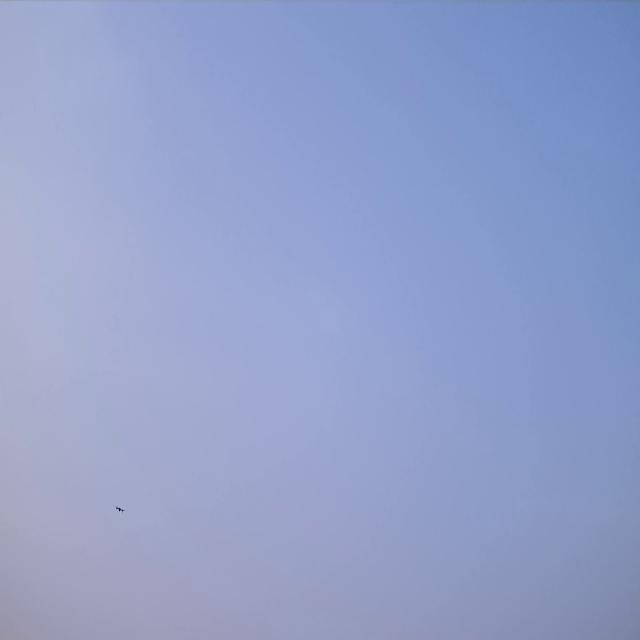UAV: (114, 504, 125, 514)
